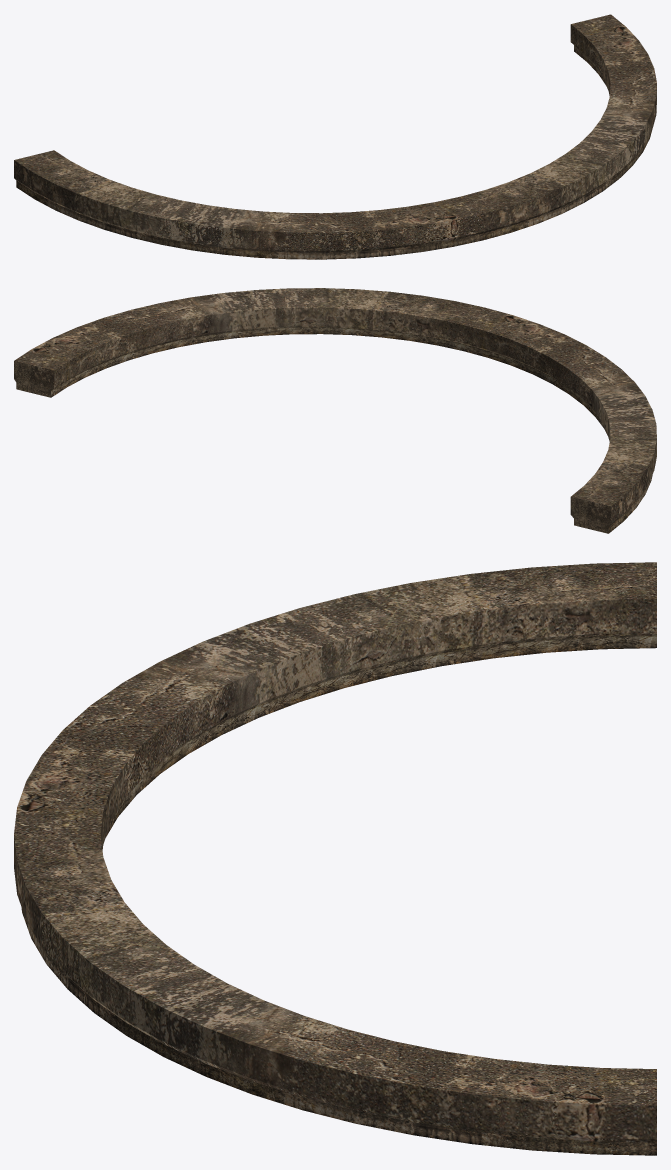
File: materials_5_stonestick_circle_6.fbx
3 renders of one model, top to bottom at view 1: azimuth 30°, elevation 25°; view 2: azimuth 150°, elevation 25°; view 3: azimuth 270°, elevation 25°, orthographic. The views are drawn at different scales.
Parts seen in each view (by area): view 1: materials_5_stonestick_circle_6; view 2: materials_5_stonestick_circle_6; view 3: materials_5_stonestick_circle_6.
Boxes of the visible parts, x1,y1,x2,y2 form: materials_5_stonestick_circle_6: (14, 14, 656, 259); materials_5_stonestick_circle_6: (14, 288, 656, 533); materials_5_stonestick_circle_6: (14, 562, 656, 1155).
Size of the model in its own units: 567 by 25.36 by 283.
